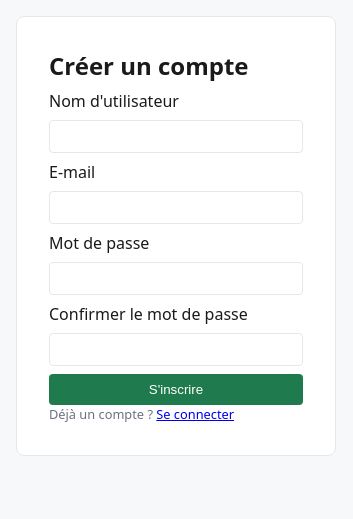
Scenario: Register page › rejects a password shorter than 6 characters
Type "babs" into the field labelled "Nom d'utilisateur".
click(176, 136); type("babs")  # box [49,120,303,153]
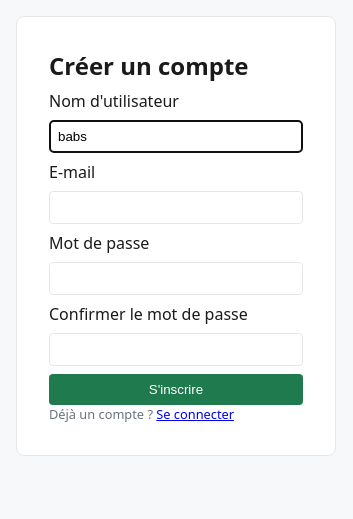
Type "babs@example.com" into the field labelled "E-mail".
click(176, 208); type("babs@example.com")  # box [49,191,303,224]
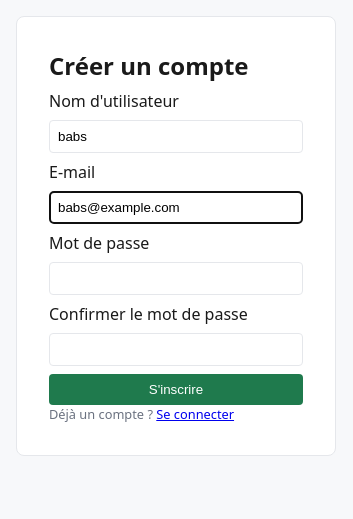
Type "123" into the password field labelled "Mot de passe".
click(176, 278); type("123")  # box [49,262,303,295]
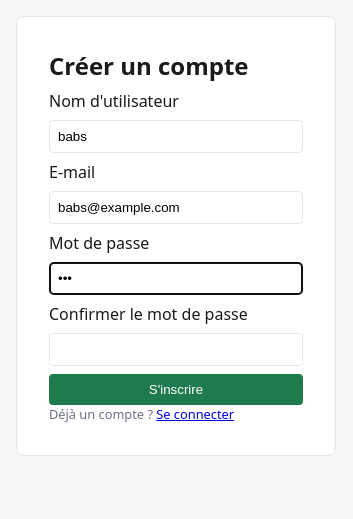
Type "123" into the password field labelled "Confirmer le mot de passe".
click(176, 350); type("123")  # box [49,333,303,366]
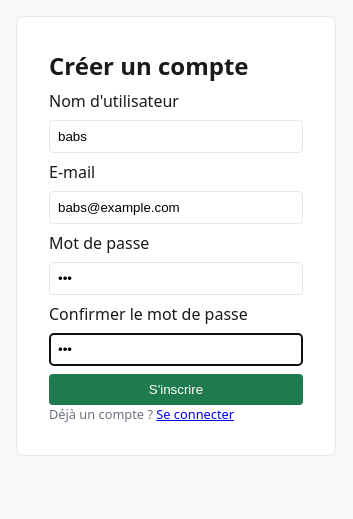
Click the button "S'inscrire".
click(176, 390)  # box [49,374,303,405]
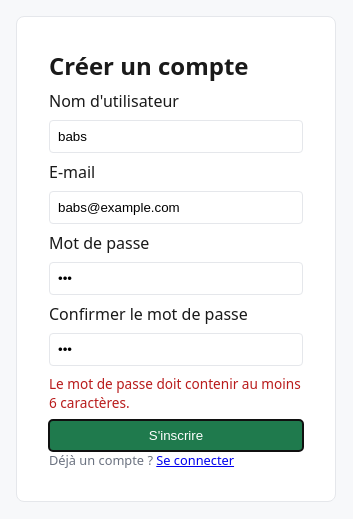
expect the message shows "au moins 6 caractères": met, box [49,374,301,412]
